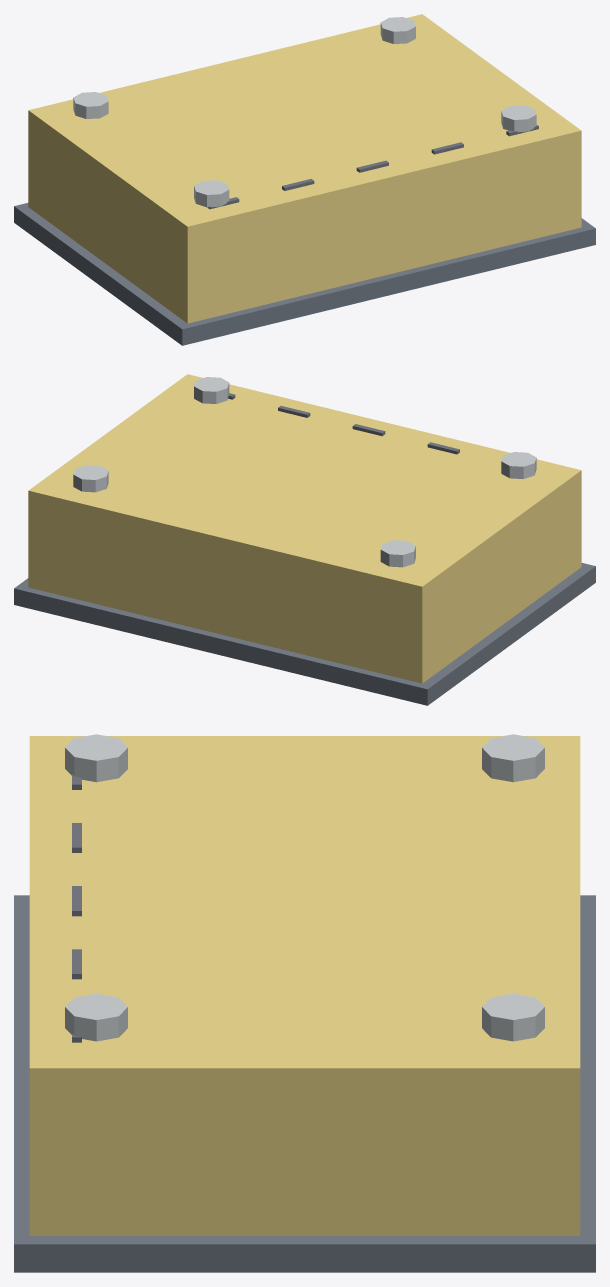
File: prensa_plato.glb
3 views of the same model, one above another, from view 1: azimuth 30°, elevation 25°; view 2: azimuth 150°, elevation 25°; view 3: azimuth 270°, elevation 25° (orthographic). The views are drawn at different scales.
Parts seen in each view (by area): view 1: prensa_plato; view 2: prensa_plato; view 3: prensa_plato.
Part boxes in pixels (left/top/right/bottom): prensa_plato: left=14, top=14, right=595, bottom=345; prensa_plato: left=14, top=374, right=595, bottom=705; prensa_plato: left=14, top=734, right=595, bottom=1272.
Size of the model in its own units: 2.1 by 0.62 by 1.48.
